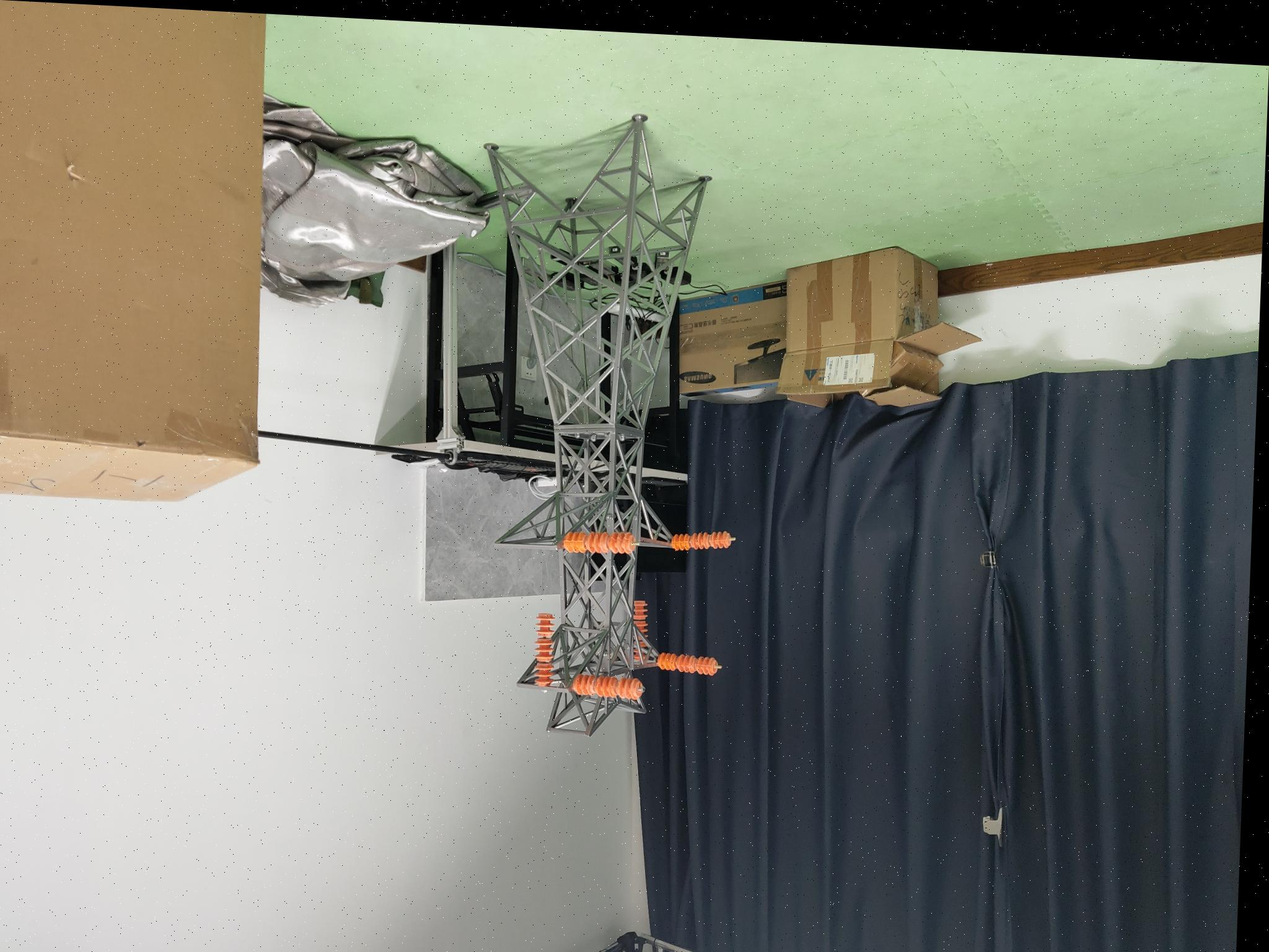tower: (467, 99, 711, 742)
